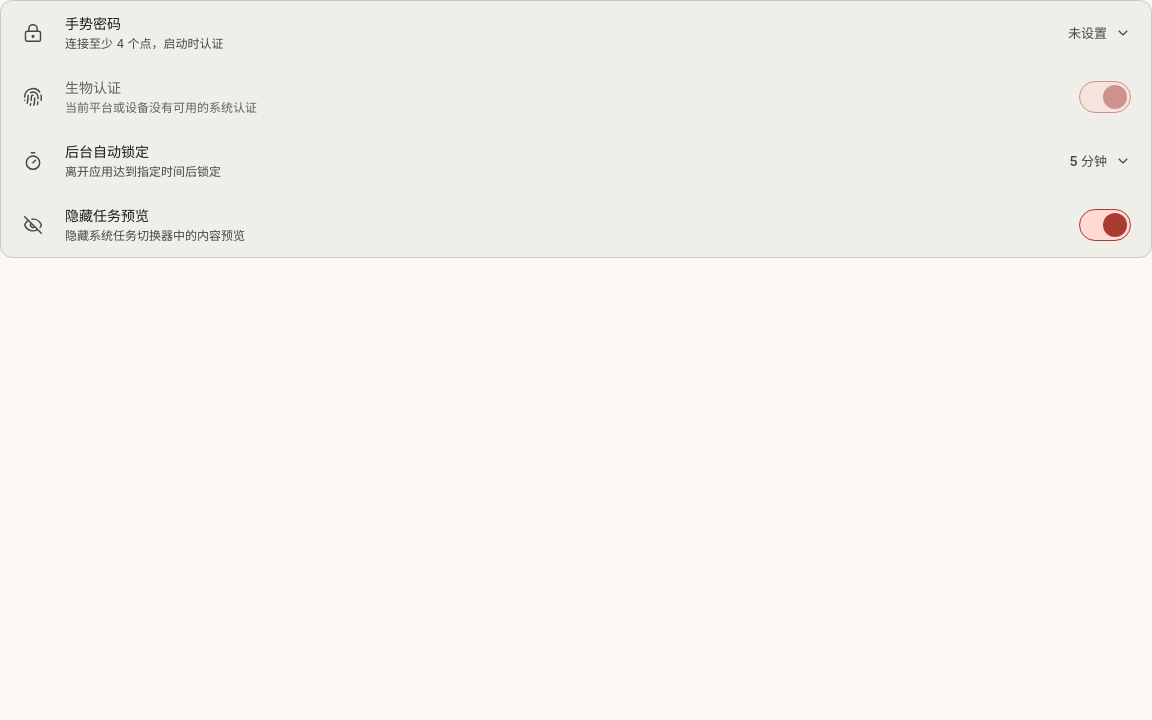
Test: offers shared timeout choices, persists the chosen delay and removes manual locking
Step 1. Click the button "后台自动锁定 离开应用达到指定时间后锁定 5 分钟" → (107, 152), box top-left (1, 129), bottom-right (1151, 193)
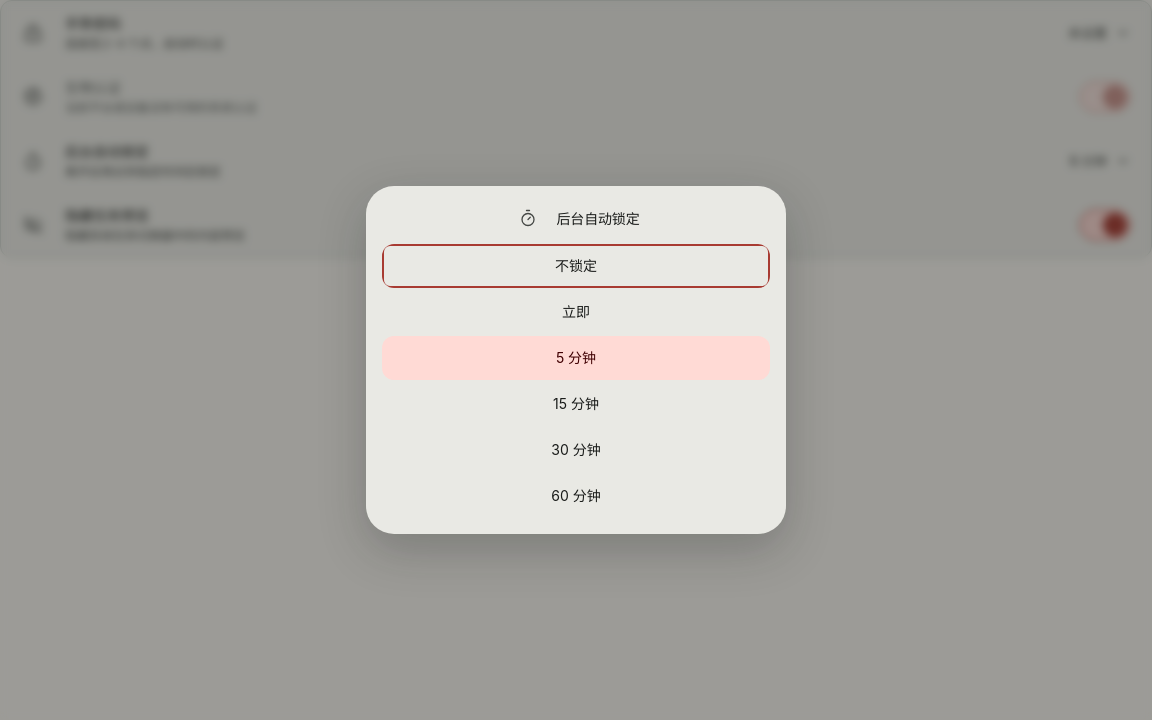
expect the button "不锁定" is shown: met, box top-left (382, 244), bottom-right (770, 288)
expect the button "立即" is shown: met, box top-left (382, 290), bottom-right (770, 334)
expect the button "5 分钟" is shown: met, box top-left (382, 336), bottom-right (770, 380)
Step 2. Click the button "15 分钟" → (576, 404), box top-left (382, 382), bottom-right (770, 426)
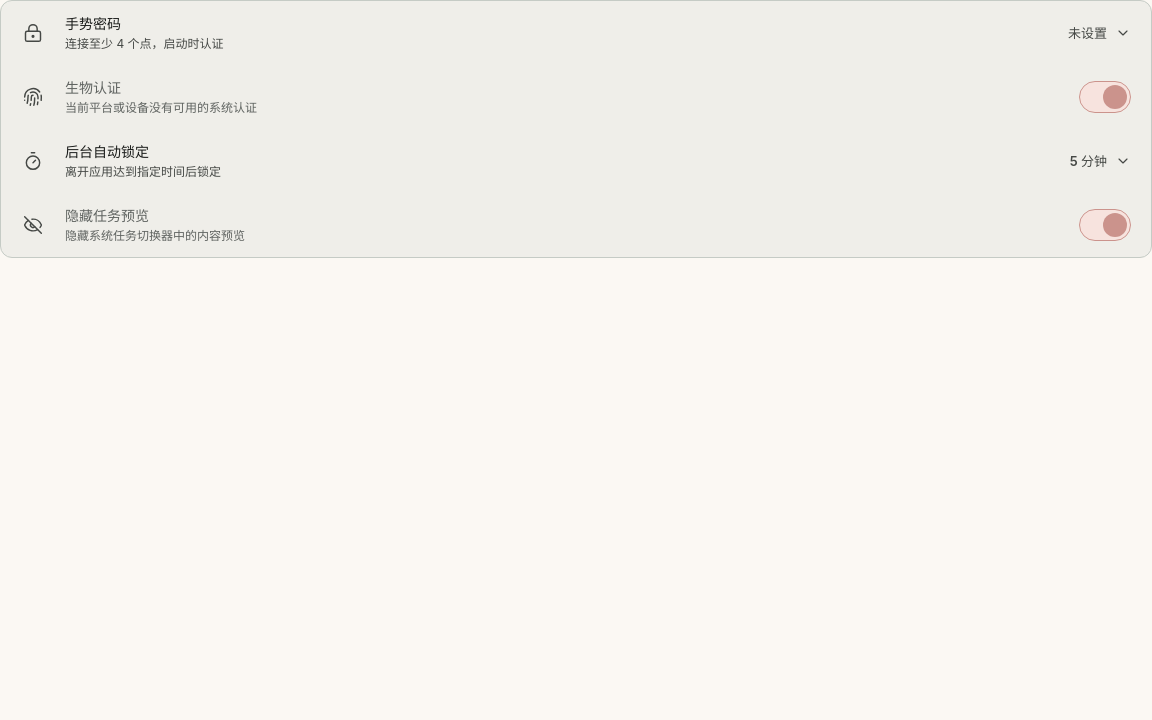
Step 3. Click the button "后台自动锁定 离开应用达到指定时间后锁定 5 分钟" → (107, 152), box top-left (1, 129), bottom-right (1151, 193)
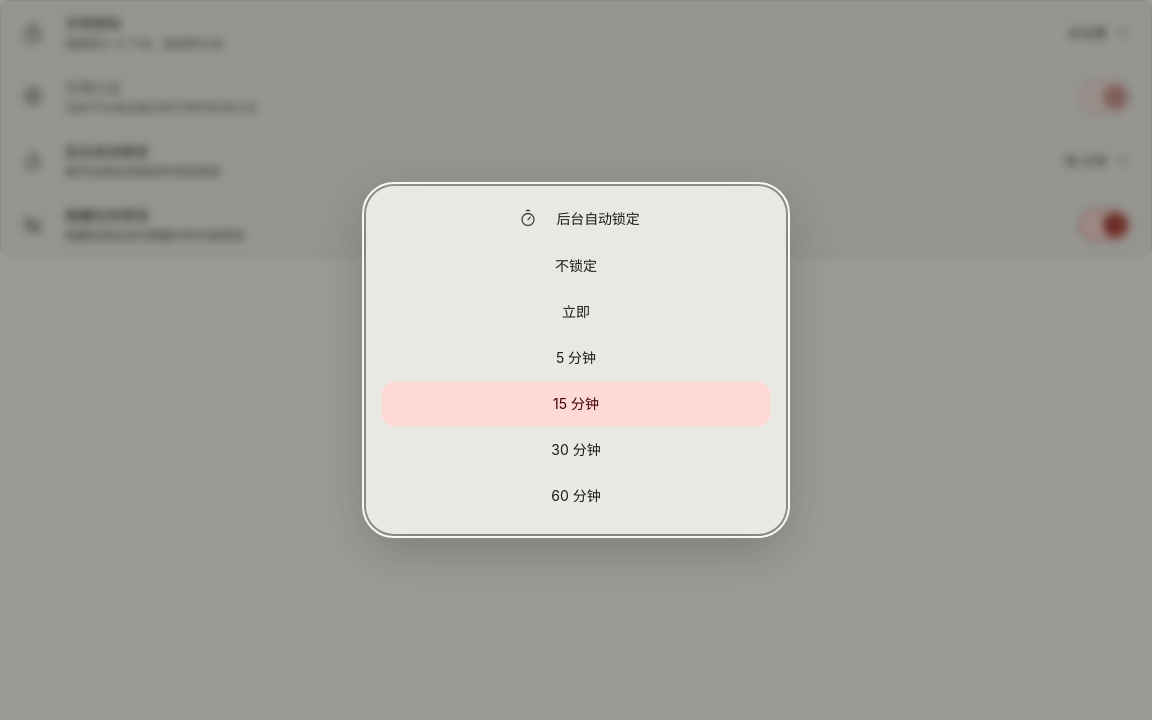
expect the button "15 分钟" is pressed: met, box top-left (382, 382), bottom-right (770, 426)
